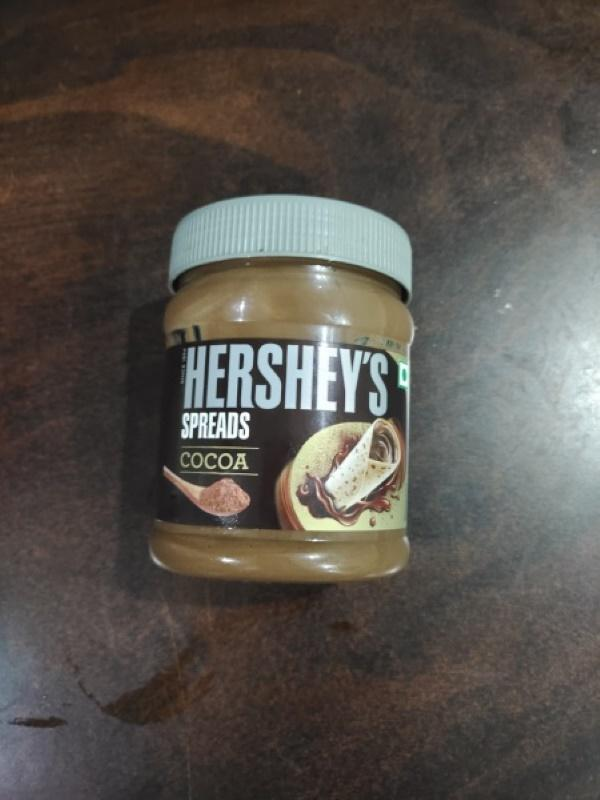Hershey-s: (138, 190, 425, 604)
